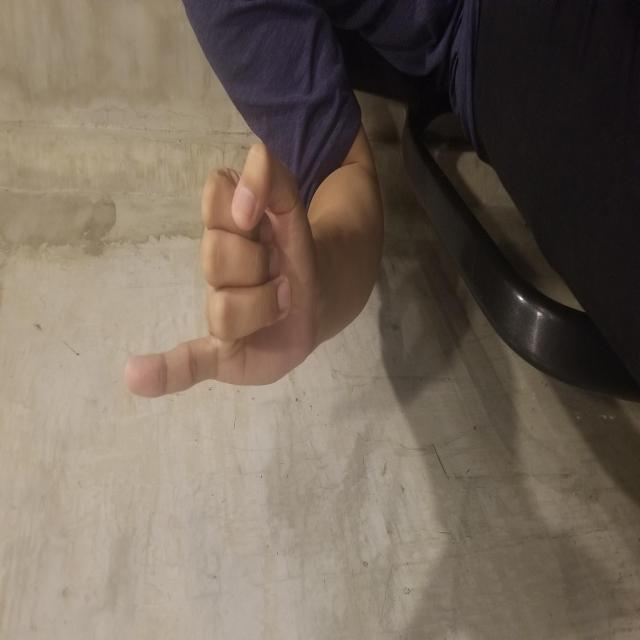I: (242, 124, 500, 320)
